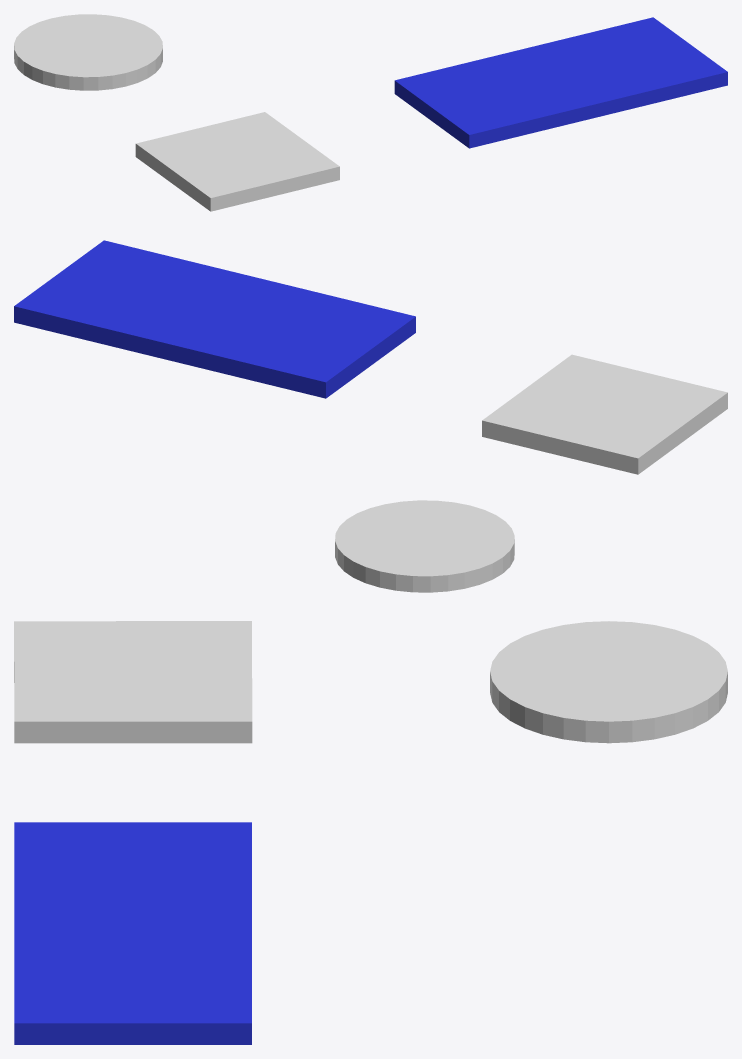
File: deskmat.gltf
3 renders of one model, top to bottom at view 1: azimuth 30°, elevation 25°; view 2: azimuth 150°, elevation 25°; view 3: azimuth 270°, elevation 25°, orthographic. The views are drawn at different scales.
Visible parts, largest first — view 1: Deskmat, Cube.001, Cylinder; view 2: Deskmat, Cube.001, Cylinder; view 3: Deskmat, Cube.001, Cylinder.
Boxes of the visible parts, x1,y1,x2,y2 form: Deskmat: (394,17,727,148); Cube.001: (135,112,339,211); Cylinder: (14,14,162,90); Deskmat: (14,240,415,398); Cube.001: (482,354,727,474); Cylinder: (335,500,514,592); Deskmat: (14,822,251,1044); Cube.001: (14,621,252,743); Cylinder: (490,621,727,743).
Size of the model in its own units: 8 by 0.2 by 6.
